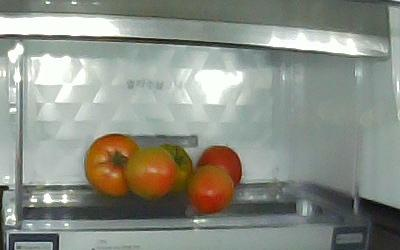tomato: (83, 133, 140, 197), (125, 147, 175, 201), (188, 165, 233, 213), (197, 146, 242, 188), (159, 143, 193, 196)
